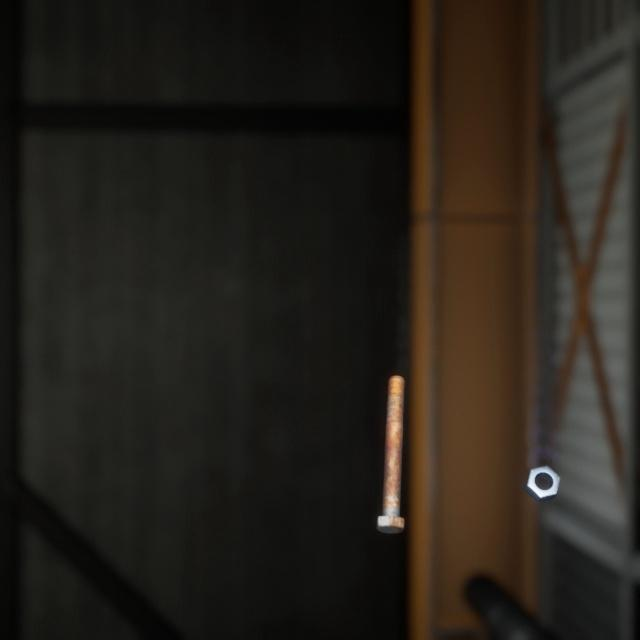bolt: (371, 351, 409, 517)
nut: (519, 440, 564, 485)
